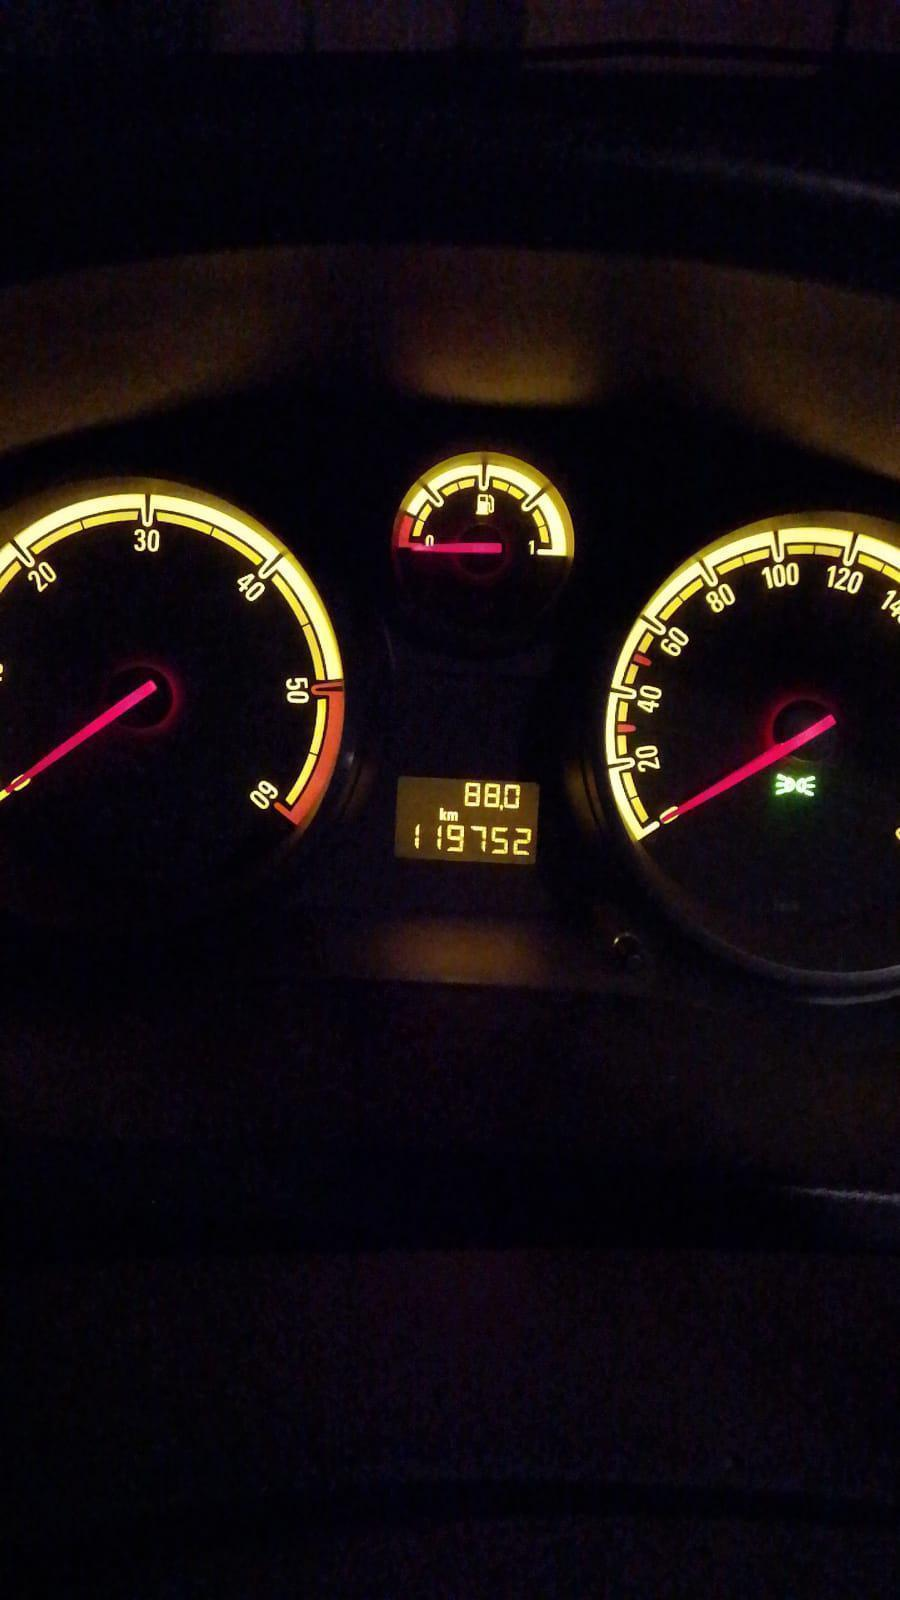,: (499, 804, 503, 811)
0: (503, 784, 521, 809)
1: (435, 824, 443, 851), (413, 823, 420, 851)
2: (511, 827, 532, 856)
5: (490, 826, 509, 855)
7: (468, 824, 488, 853)
8: (463, 781, 481, 807), (484, 782, 500, 808)
9: (445, 824, 465, 853)
X: (446, 810, 458, 822), (438, 807, 446, 821)
odometer: (389, 771, 542, 867)
